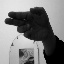h: (4, 6, 49, 41)
